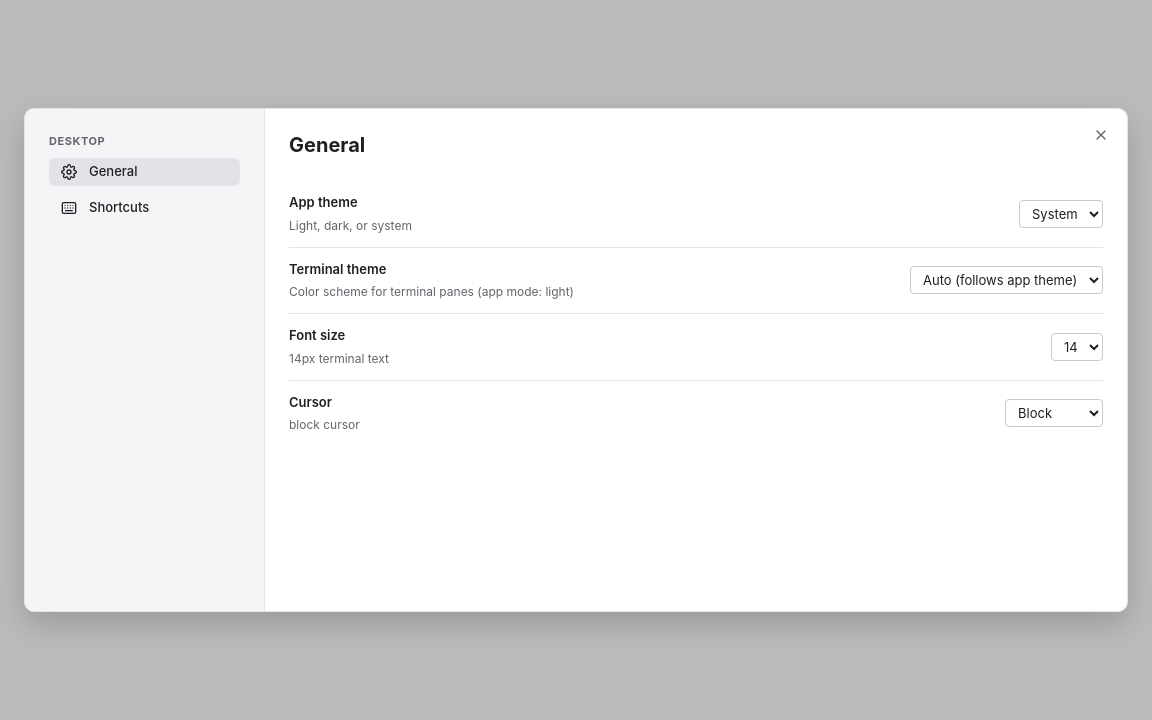
SettingsDialog › updates the title to Shortcuts when the shortcuts nav is selected
Click the button "Shortcuts".
click(144, 208)  # box [49, 194, 240, 222]
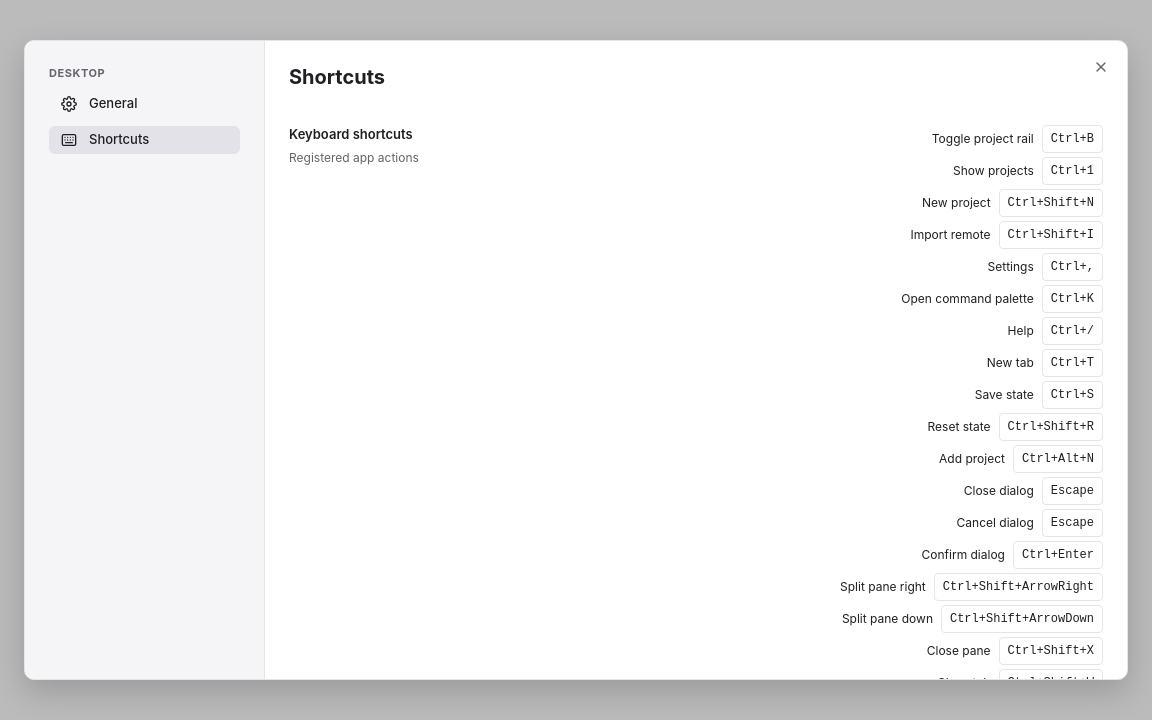
Now the heading with id "settings-title" reads "Shortcuts", box [289, 65, 385, 89]
